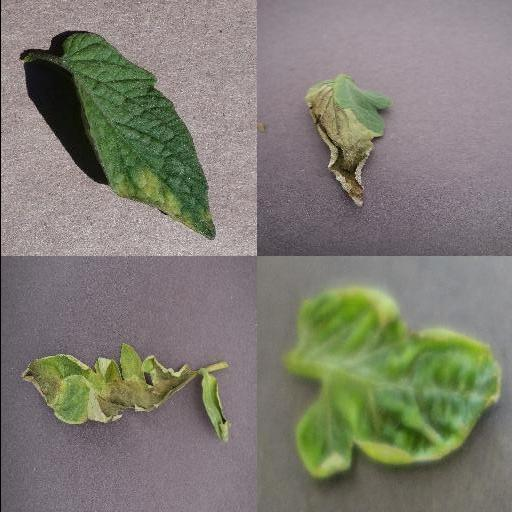Late Blight: (22, 339, 196, 425), (302, 81, 386, 211), (201, 373, 231, 443)
Leaf Mold: (61, 31, 217, 239)
Yellow Leaf Curl Virus: (295, 287, 501, 478)
